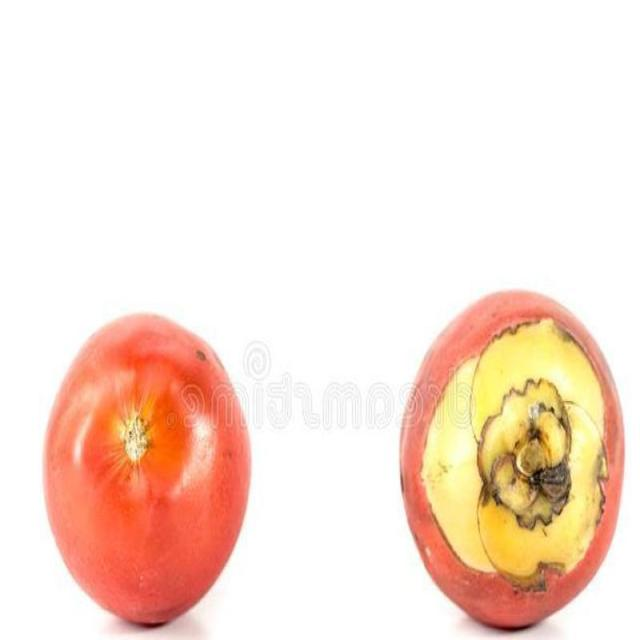good: (397, 292, 628, 633), (42, 313, 254, 630)
